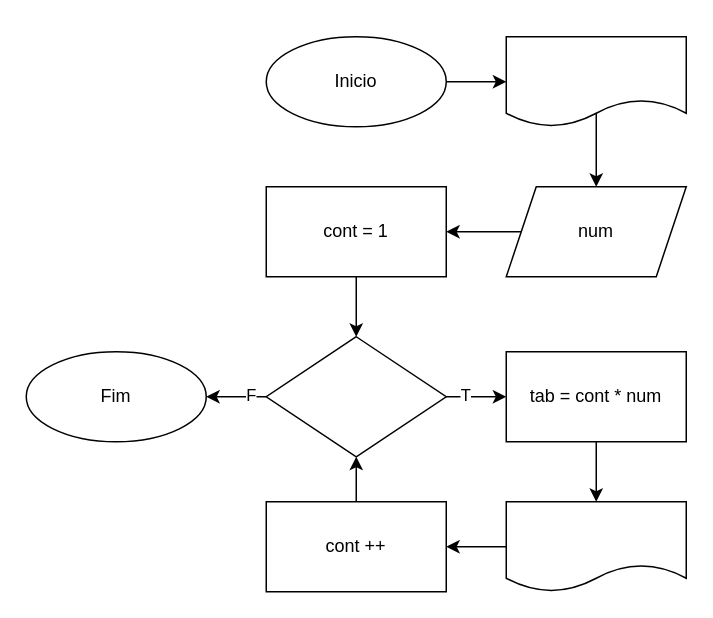
Some shapes in this 713 by 618 pixel diagram are drawn without their labels. The centre of each missing label's shape, as x and y in pixels:
"Digite um número": pixel 595 81
cont <= 10: pixel 355 396
num "X" cont "=" tab: pixel 595 546
